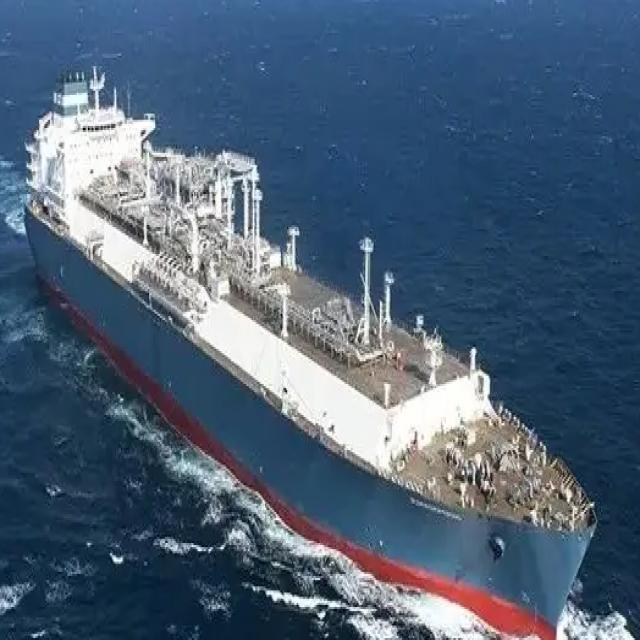navalvessels: (22, 33, 600, 640)
